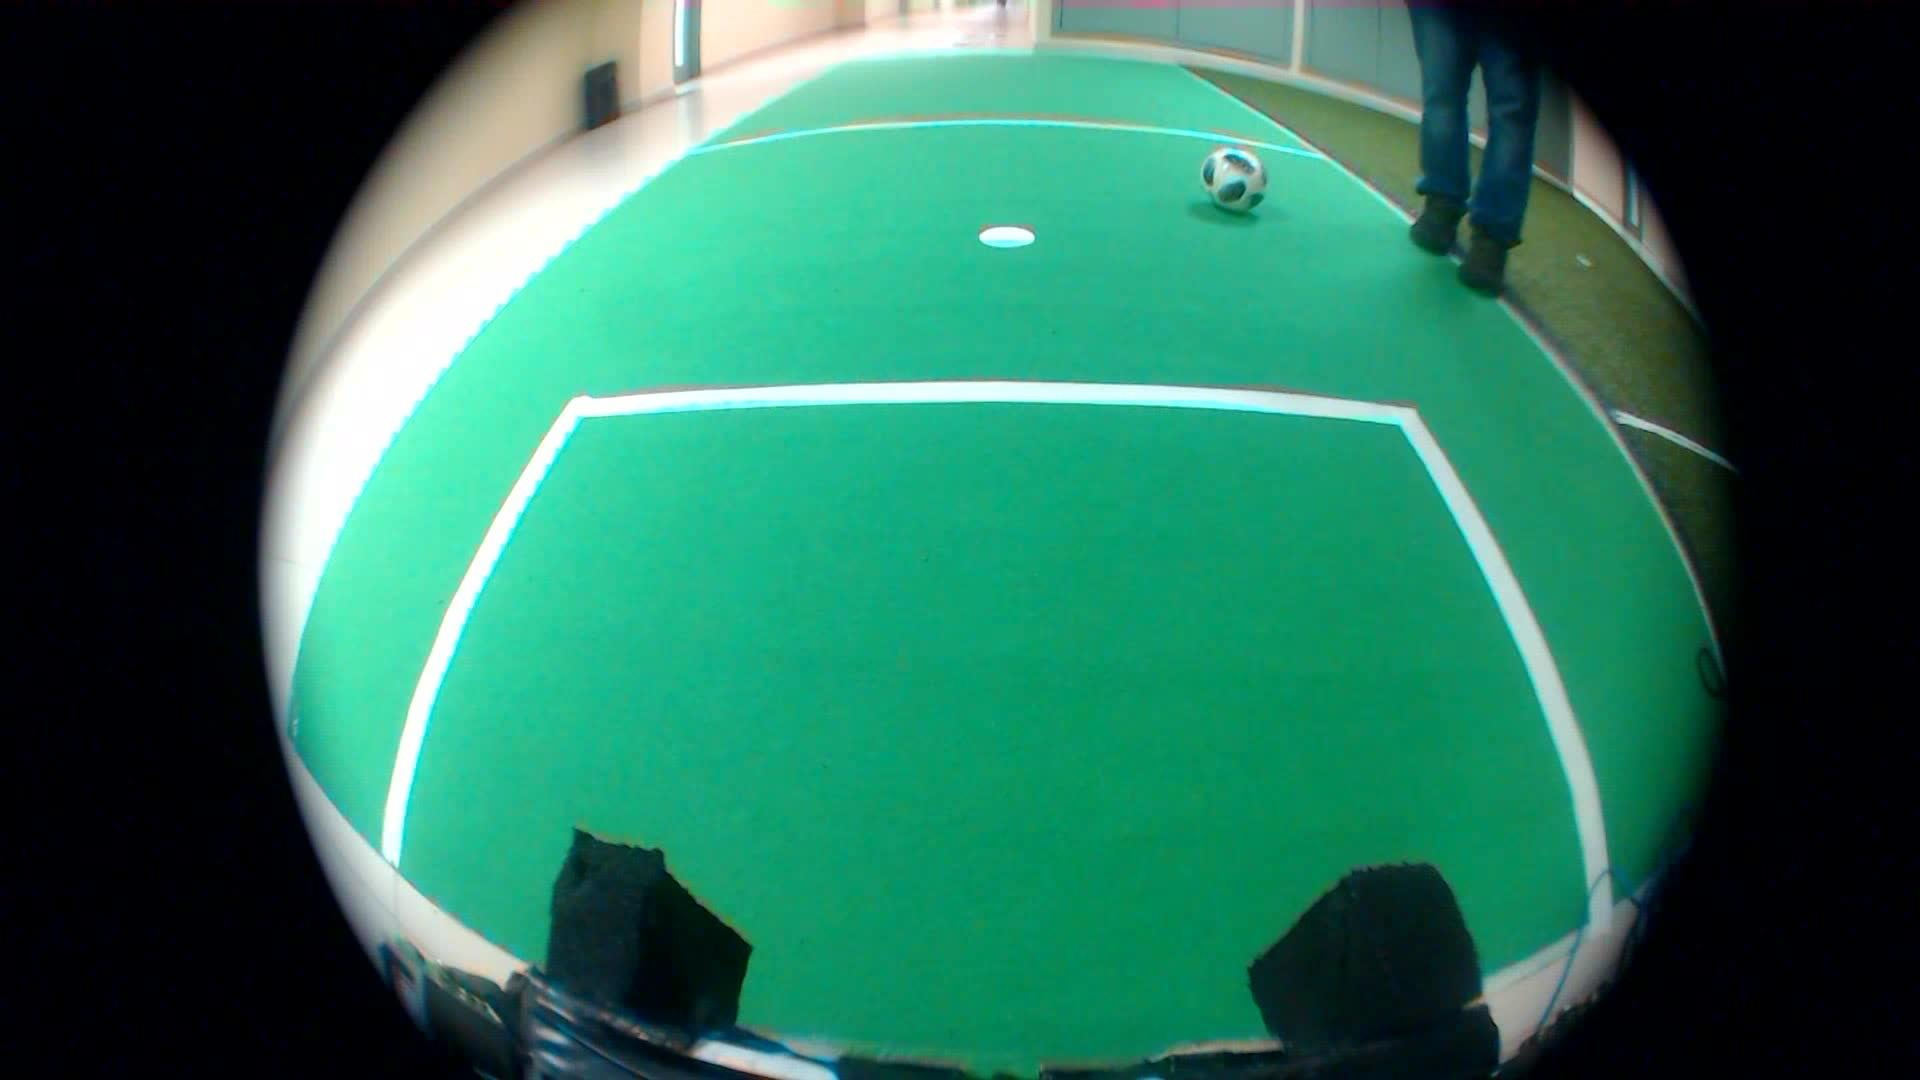ball: (1191, 127, 1279, 223)
